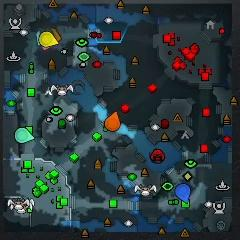p1: (174, 183, 191, 203)
p2: (14, 128, 35, 144)
p4: (40, 31, 59, 46)
p5: (105, 112, 120, 131)
x1: (40, 45, 51, 51)
x3: (36, 30, 40, 45)
x5: (50, 28, 61, 41)
